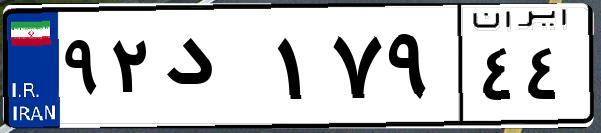1: (270, 28, 330, 110)
2: (110, 28, 158, 98)
4: (475, 38, 525, 113), (525, 38, 570, 115)
7: (330, 28, 385, 110)
9: (385, 28, 445, 110), (57, 26, 110, 100)
د: (158, 20, 270, 120)
